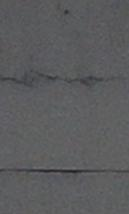fissura: (0, 64, 125, 91)
